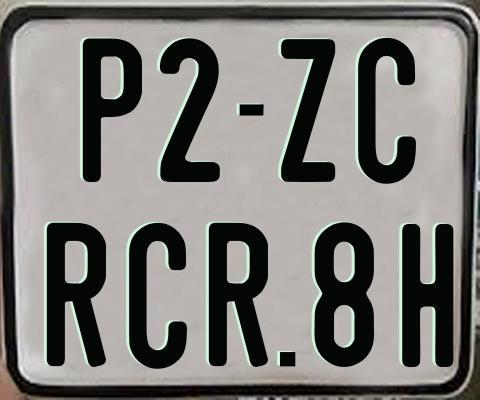2: (159, 35, 222, 183)
8: (311, 219, 374, 366)
C: (128, 222, 187, 374), (356, 37, 415, 184)
H: (402, 222, 459, 369)
P: (83, 35, 142, 180)
R: (208, 223, 269, 371), (46, 221, 105, 366)
Z: (280, 38, 335, 185)
